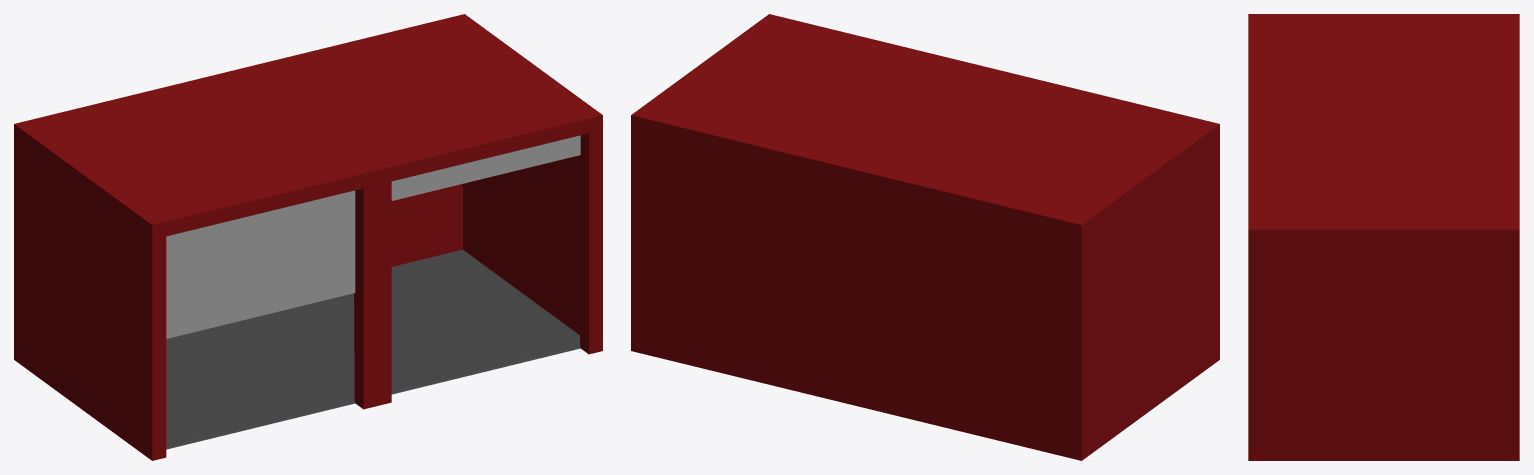
The model's file is Industrial1.fbx.
3 views of the same model, side by side, from view 1: azimuth 30°, elevation 25°; view 2: azimuth 150°, elevation 25°; view 3: azimuth 270°, elevation 25° (orthographic).
Visible parts, largest first — view 1: Cube; view 2: Cube; view 3: Cube.
Part boxes in pixels (x1,y1,x2,y2): Cube: (14, 14, 602, 460); Cube: (631, 14, 1219, 460); Cube: (1248, 14, 1519, 460).
Size of the model in its own units: 3200 by 1600 by 1700.
